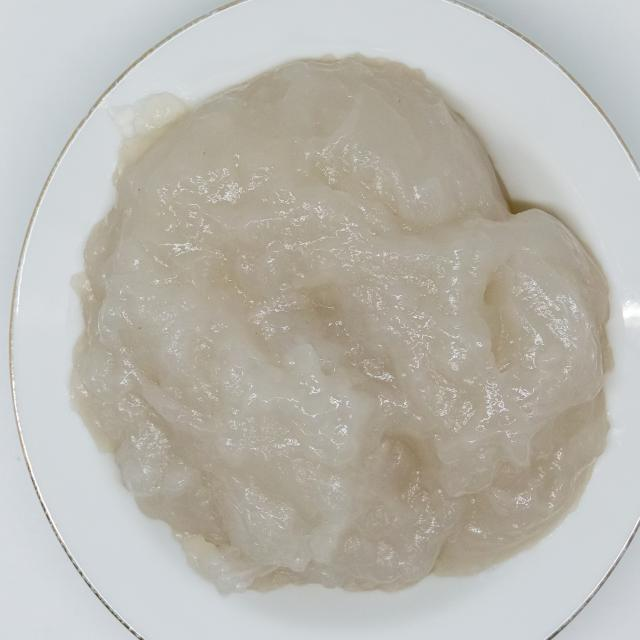Papeda: (53, 46, 623, 599)
